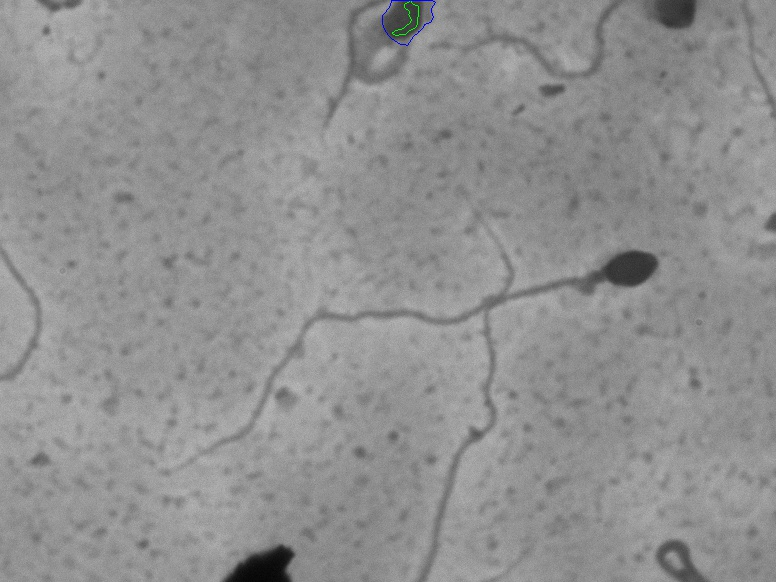Normal: (141, 235, 688, 488)
